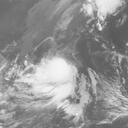cyclone: (35, 58, 75, 103)
